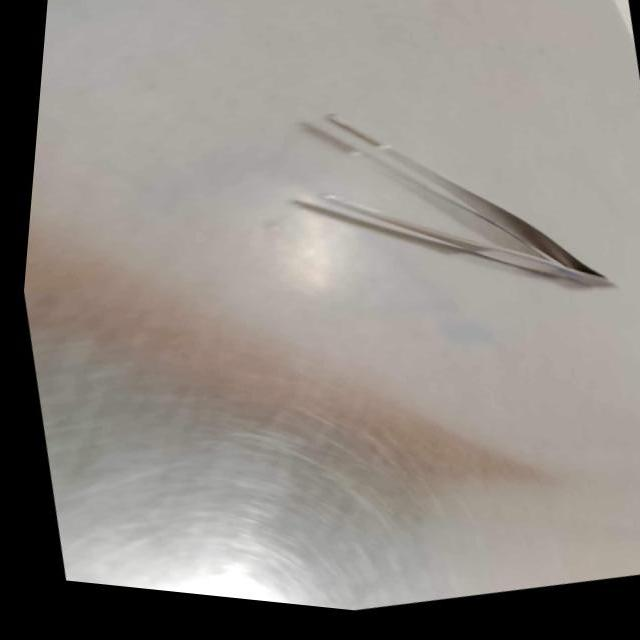Pathological: (21, 1, 640, 614)
Sharps: (294, 113, 617, 290)
